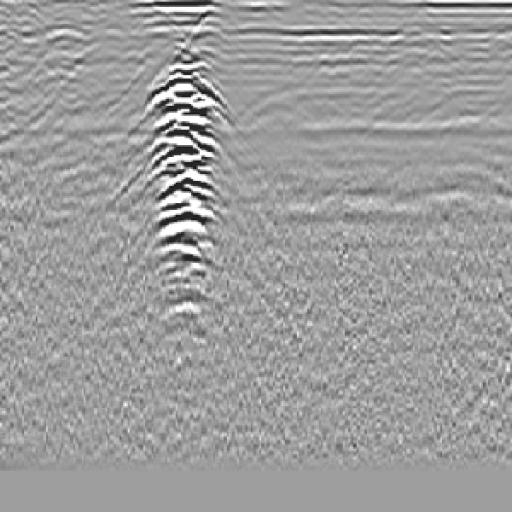metalic: (135, 24, 236, 352)
